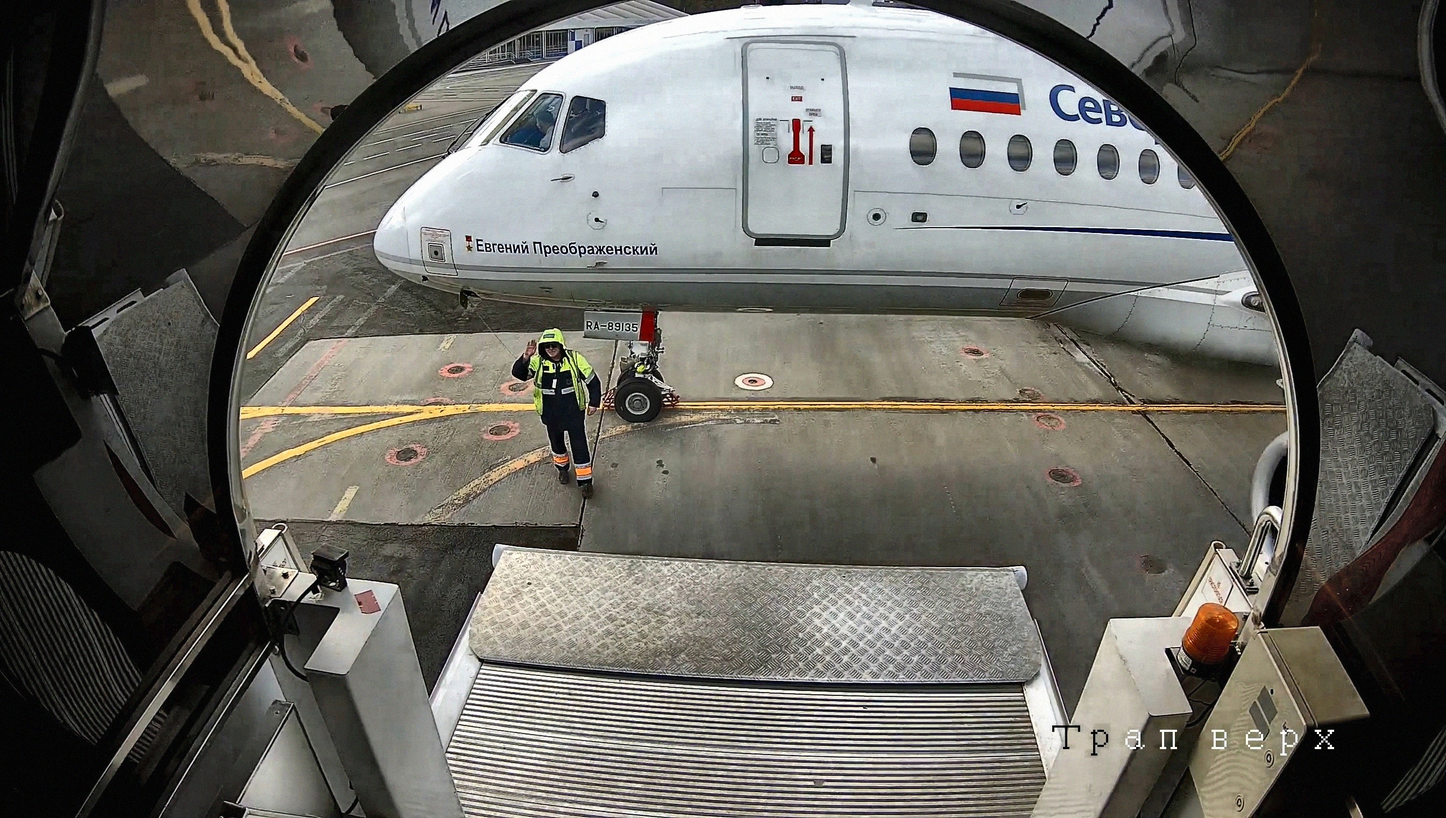boots: (660, 384, 685, 416)
wheels: (612, 375, 664, 424), (614, 358, 668, 398)
